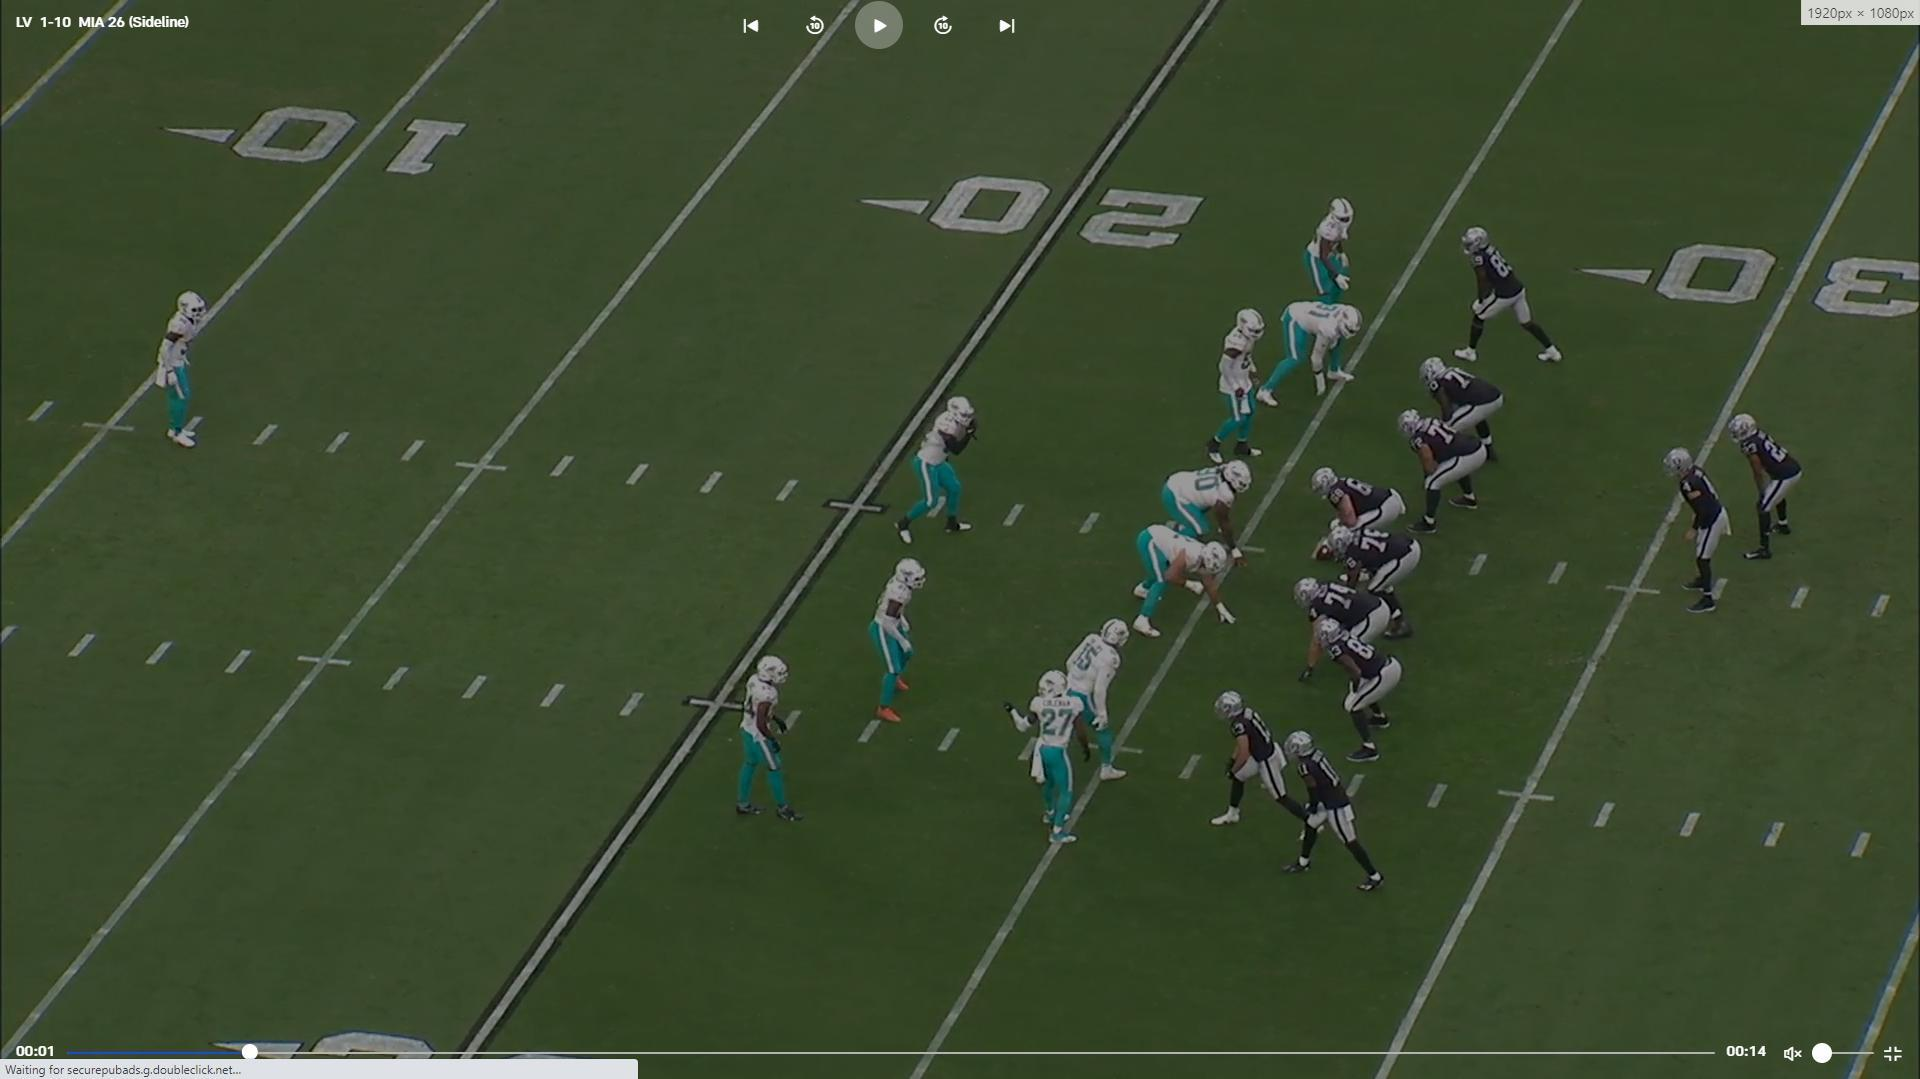player: (1276, 728, 1382, 900), (1455, 224, 1565, 370), (1209, 688, 1310, 835), (891, 393, 979, 552), (1311, 621, 1403, 771), (1130, 527, 1247, 642), (1021, 676, 1094, 859), (1661, 444, 1735, 621), (1316, 523, 1424, 641), (1064, 610, 1136, 786), (739, 649, 810, 827), (1206, 303, 1281, 466), (1395, 408, 1489, 535), (1732, 410, 1808, 567), (1263, 297, 1374, 404), (1161, 456, 1263, 564), (867, 554, 930, 728), (1296, 573, 1397, 676), (1422, 354, 1512, 466), (160, 285, 219, 449), (1302, 195, 1359, 313), (1316, 463, 1408, 533)
